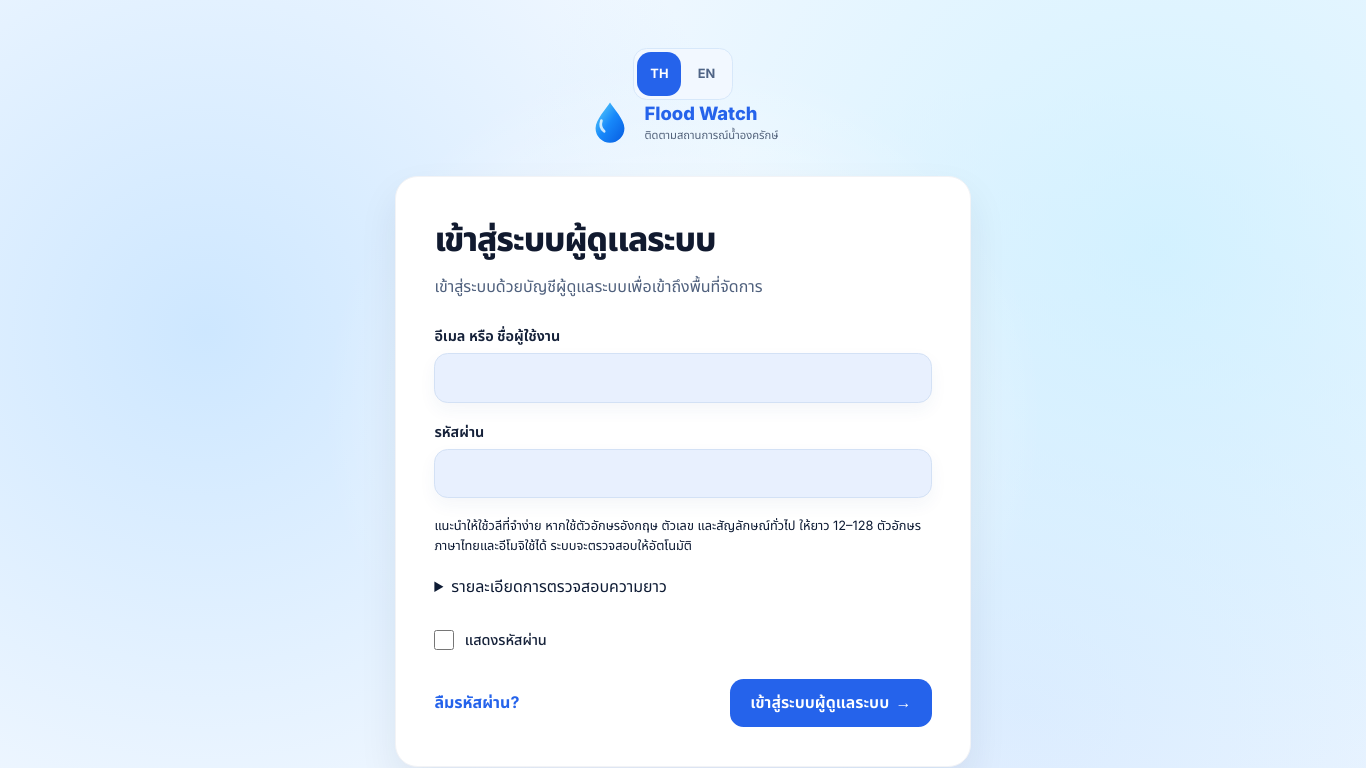
Test case: AuthPage › does not navigate or report admin success when admin login returns a USER
This screenshot has width=1366, height=768.
Type "user@example.com" into the field labelled "อีเมล หรือ ชื่อผู้ใช้งาน".
click(683, 378); type("user@example.com")  # box [434,353,932,402]
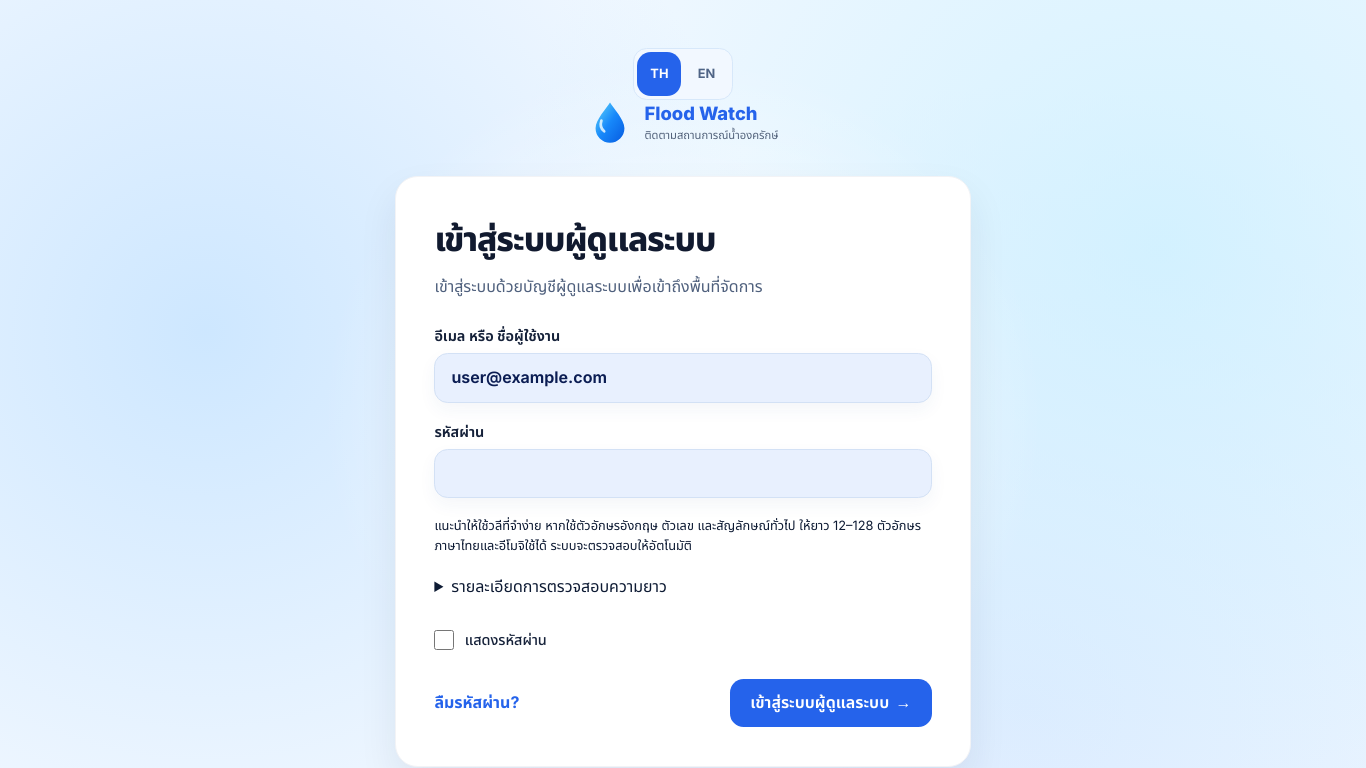
Type "password1234" into the password field labelled "รหัสผ่าน".
click(683, 474); type("password1234")  # box [434,449,932,498]
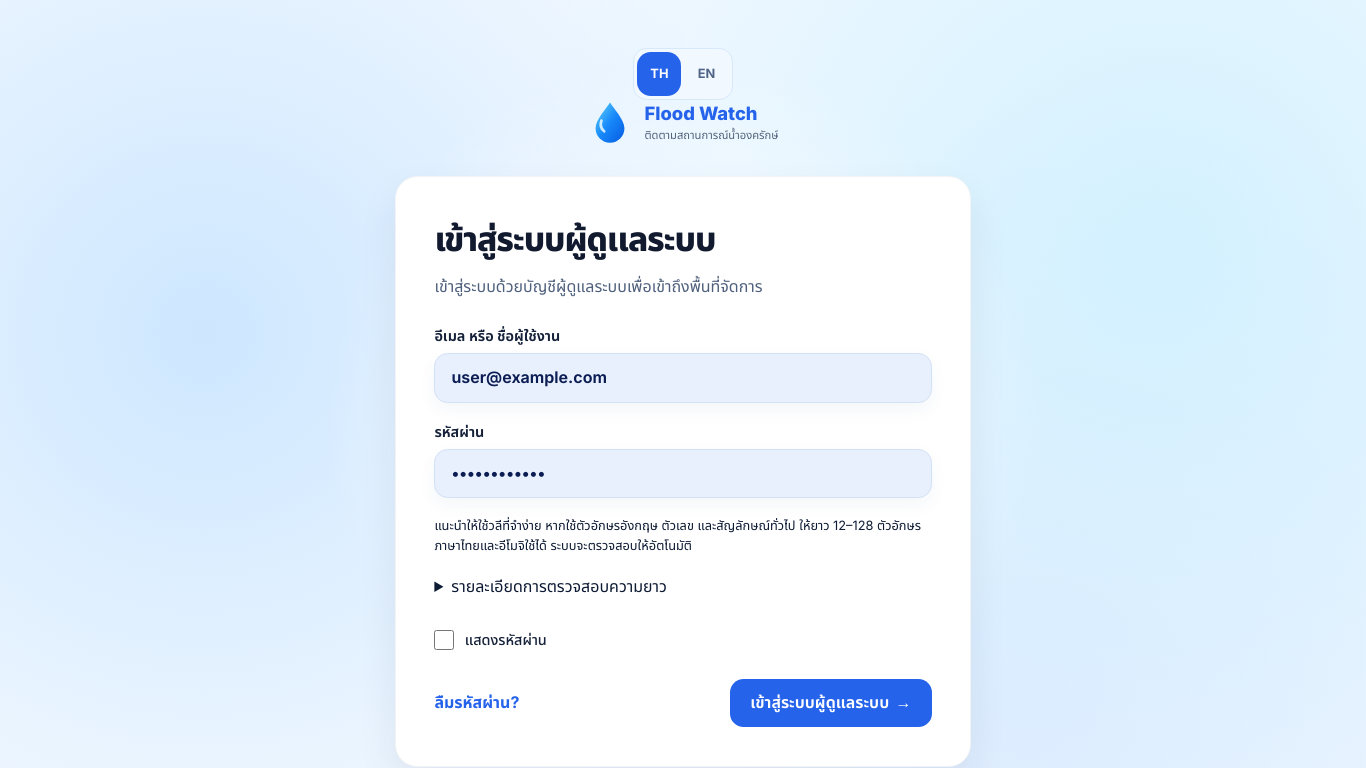
Click the button "เข้าสู่ระบบผู้ดูแลระบบ →".
click(831, 703)  # box [730,679,932,727]
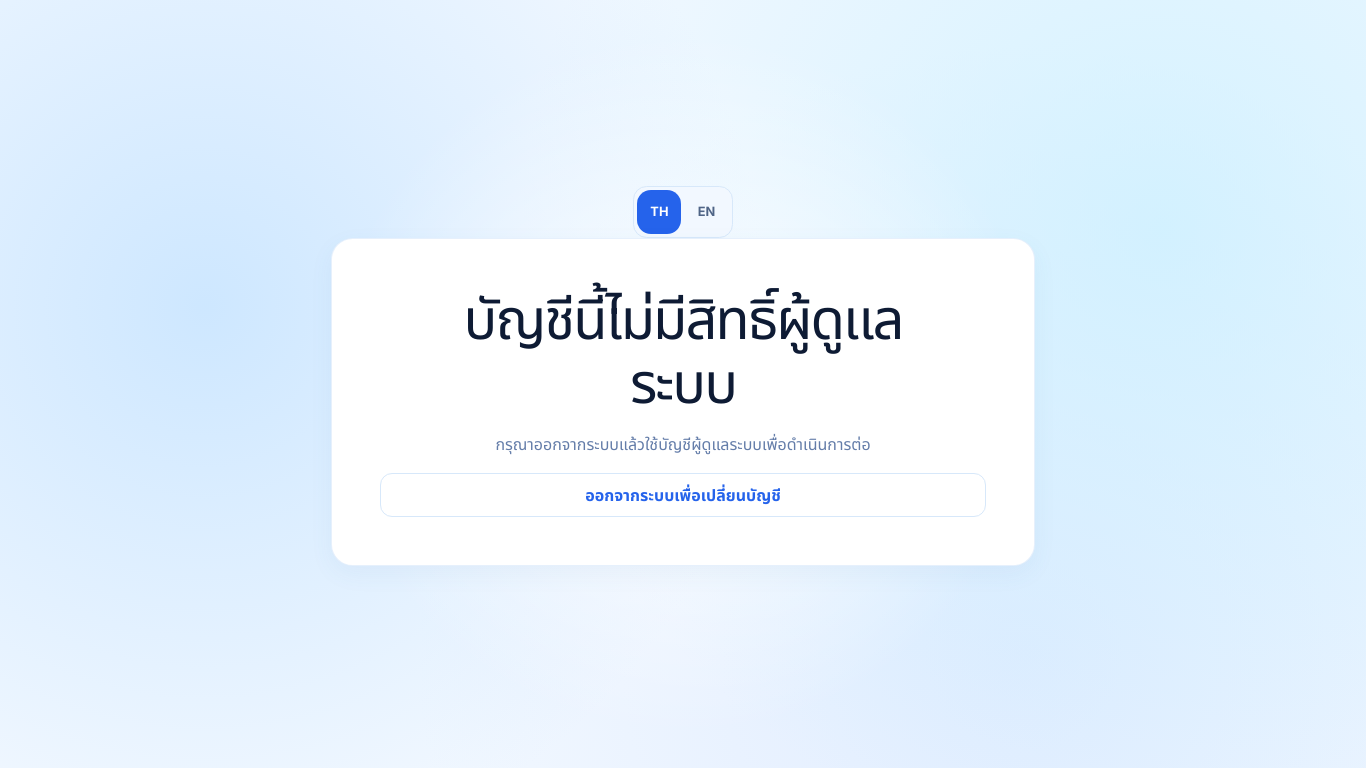
Expected: the heading "บัญชีนี้ไม่มีสิทธิ์ผู้ดูแลระบบ" is shown, [436,287,930,416]
